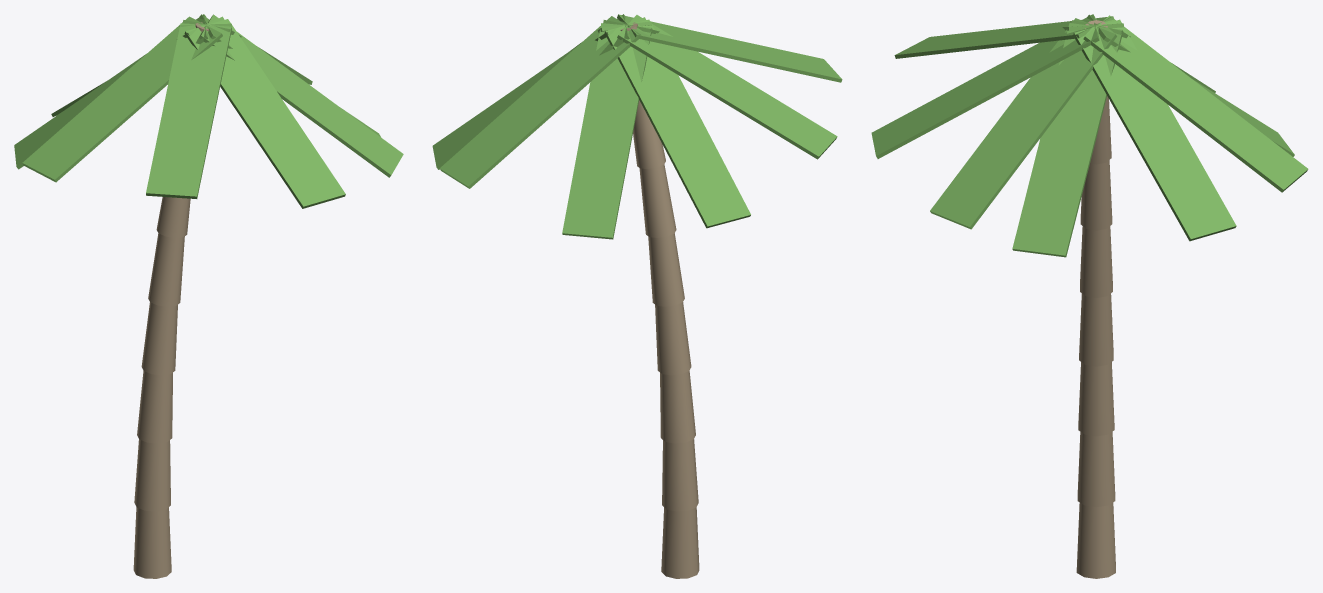
The model's file is palm.glb.
The picture shows the model from 3 angles, left to right: view 1: azimuth 30°, elevation 25°; view 2: azimuth 150°, elevation 25°; view 3: azimuth 270°, elevation 25°; orthographic projection. The views are drawn at different scales.
Visible parts, largest first — view 1: Palm; view 2: Palm; view 3: Palm.
Boxes of the visible parts, x1,y1,x2,y2 form: Palm: (14,14,403,578); Palm: (432,14,842,578); Palm: (871,14,1308,578).
Size of the model in its own units: 5.41 by 7.97 by 5.51.
